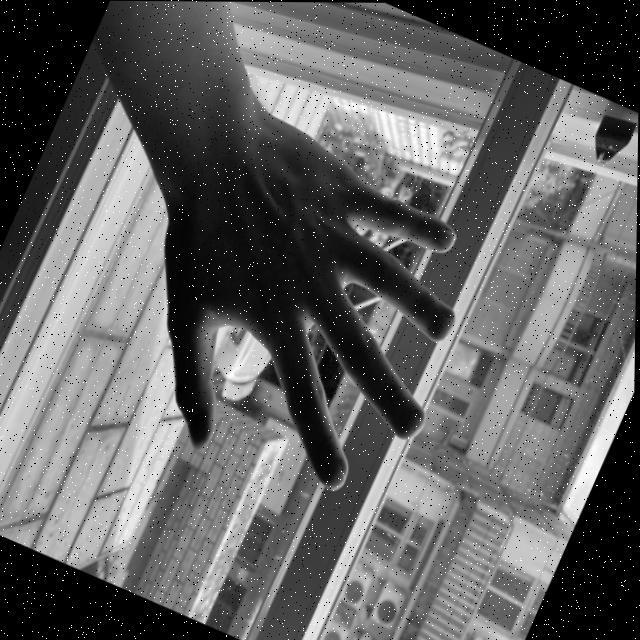no-gloves: (101, 98, 514, 526)
